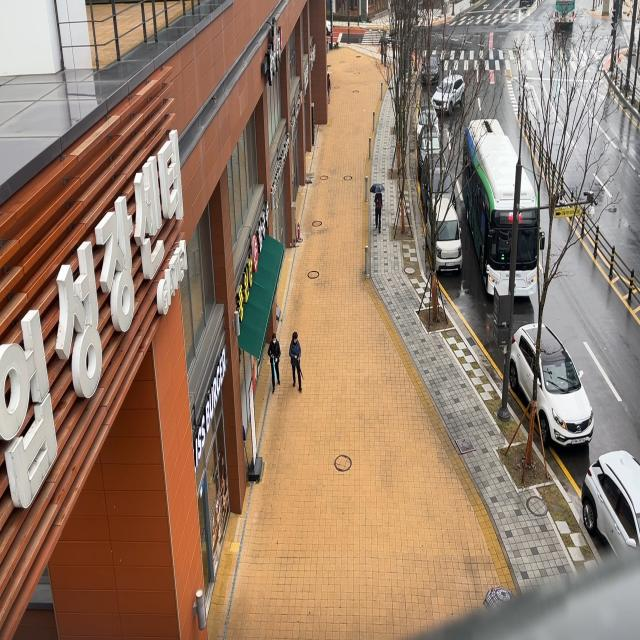Bus: (460, 114, 557, 310), (552, 0, 579, 28)
Car: (494, 316, 604, 458), (568, 432, 640, 574), (425, 196, 464, 276), (430, 60, 474, 113), (422, 144, 457, 210), (414, 122, 442, 168), (423, 44, 444, 86), (414, 104, 439, 134)
